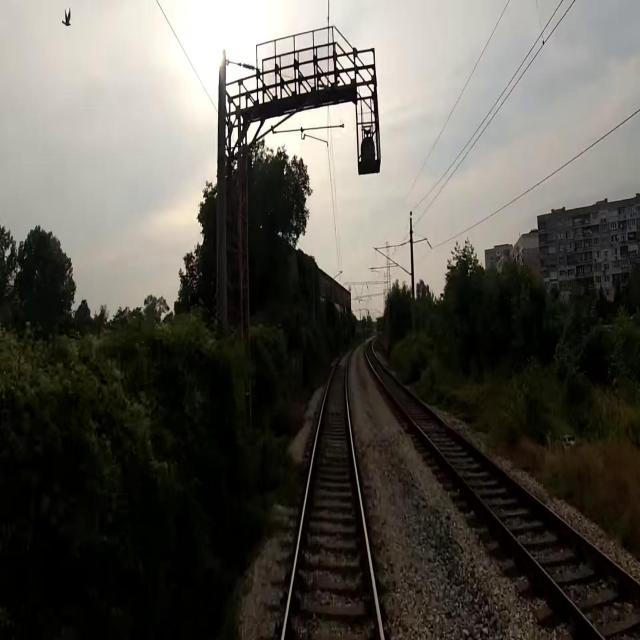rail-track: (367, 343, 640, 639)
